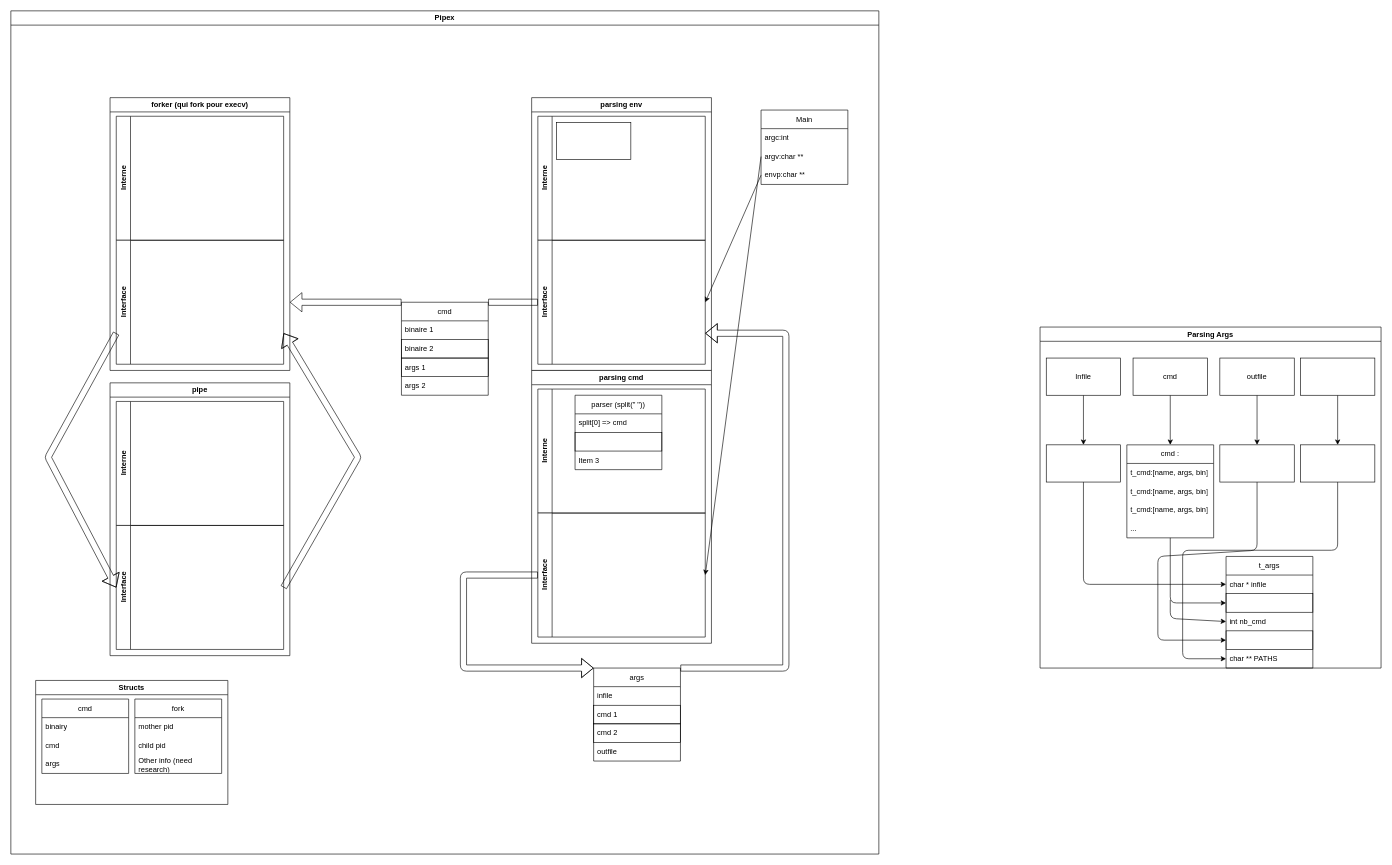
This 1392x865 diagram has some shape labels left out. Here are the shapes that lost their labels. From the top down, the centre of each, then its label:
[593,141]: Only shearching for PATH with link with the cmd
[1337,376]: envp
[618,441]: split[1:-1] => args
[1083,463]: args[1]
[1256,463]: args[argc - 1]
[1337,463]: ft_getenv("PATH")
[1269,602]: t_cmd * cmds
[1269,639]: char * outfile
